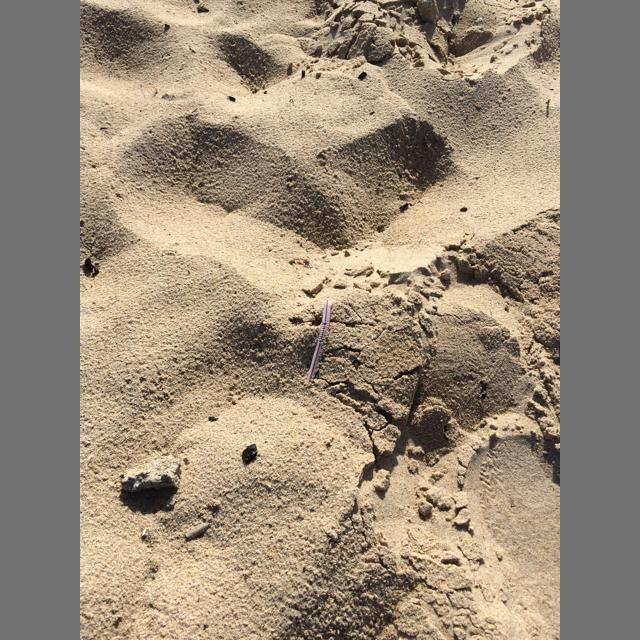litter: (307, 300, 331, 384)
